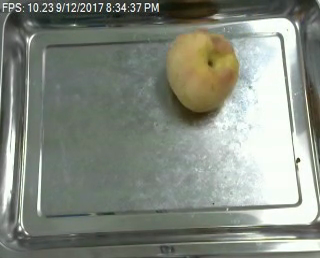Peach: (164, 28, 240, 114)
